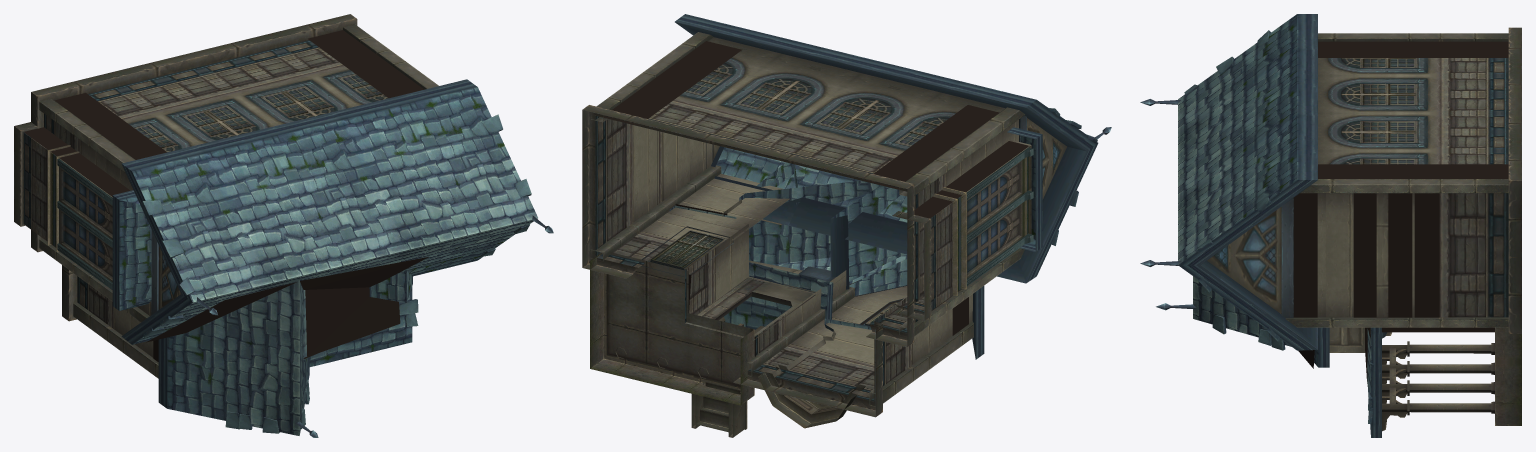
The model's file is level-3.obj.
The picture shows the model from 3 angles, left to right: view 1: azimuth 30°, elevation 25°; view 2: azimuth 150°, elevation 25°; view 3: azimuth 270°, elevation 25°; orthographic projection. The views are drawn at different scales.
Parts seen in each view (by area): view 1: level-3; view 2: level-3; view 3: level-3.
Part boxes in pixels (bbox=[...]): level-3: bbox=[14, 14, 553, 437]; level-3: bbox=[582, 14, 1111, 437]; level-3: bbox=[1140, 14, 1521, 437].
Bounding box in the file's own units: 541 × 422 × 504.
Materials: 4 (4 with a texture image).
